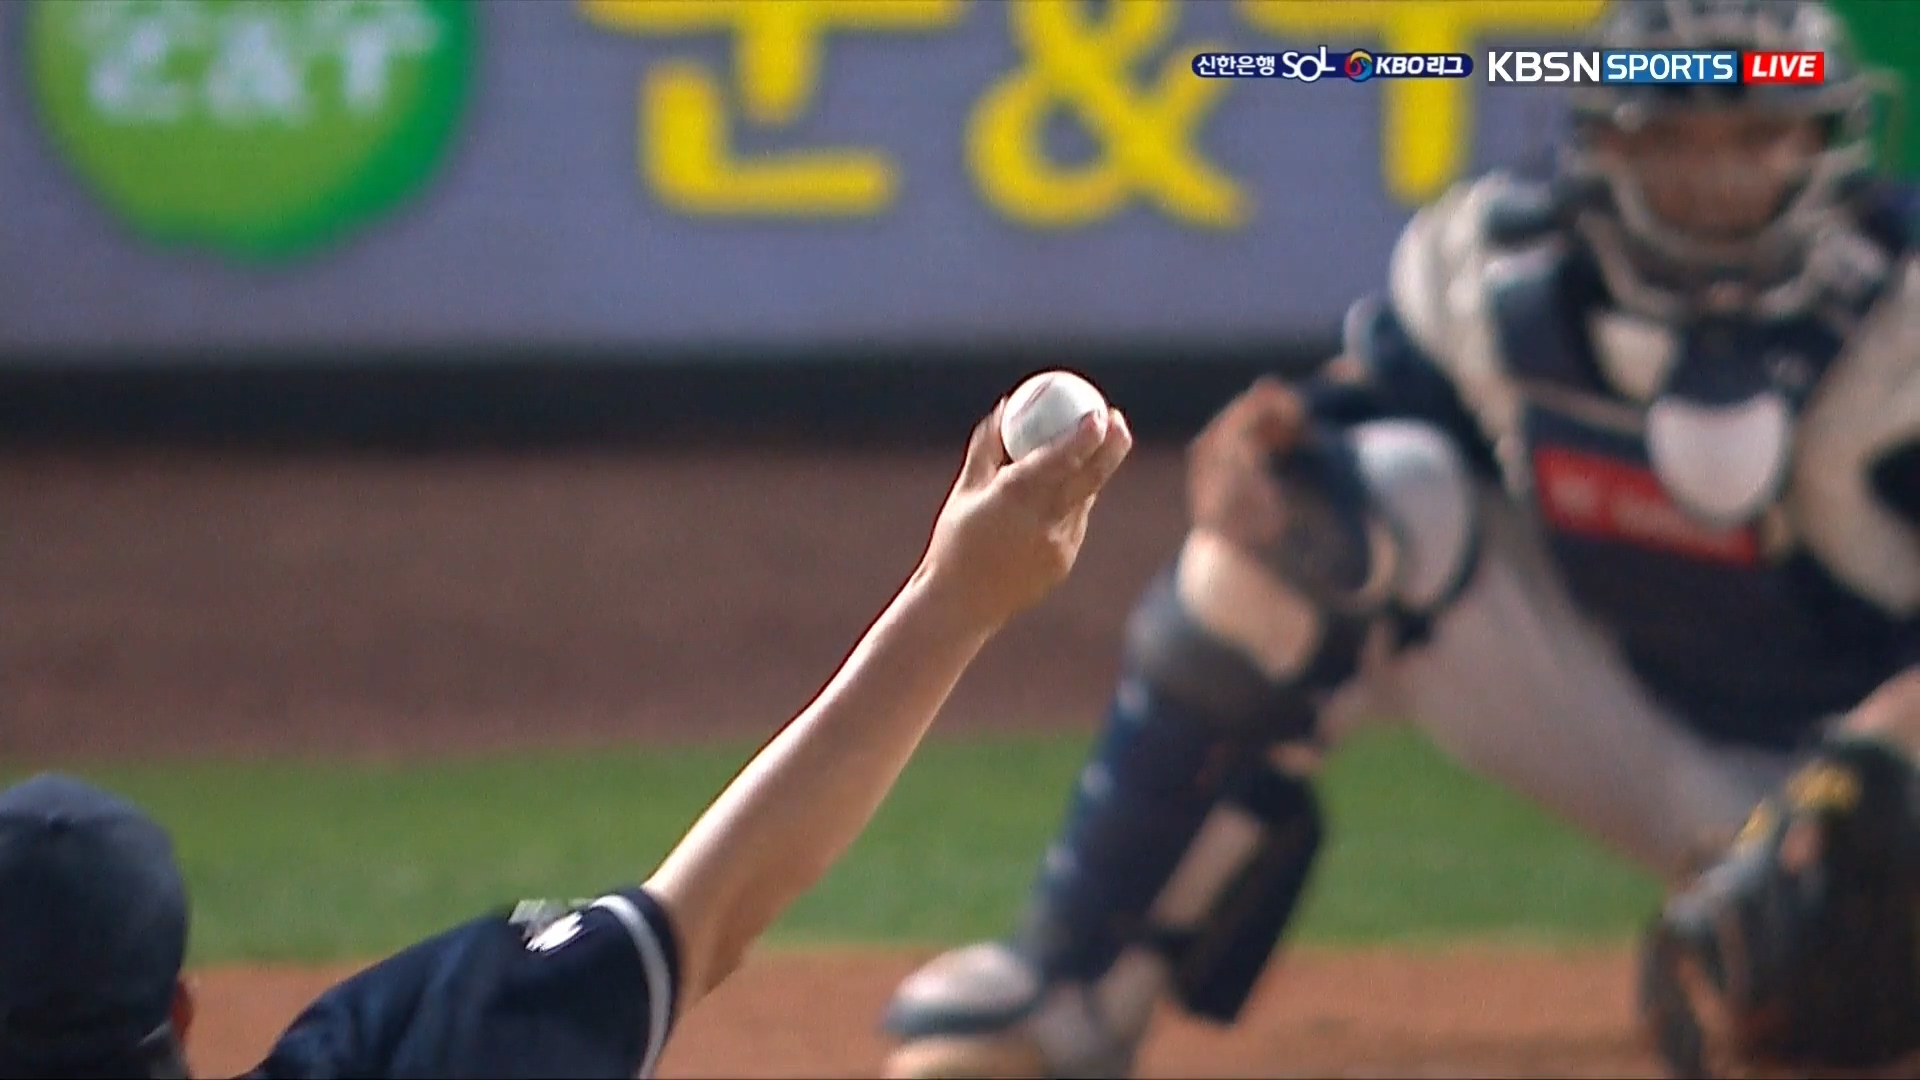zoomin_hand: (636, 335, 1156, 1017)
